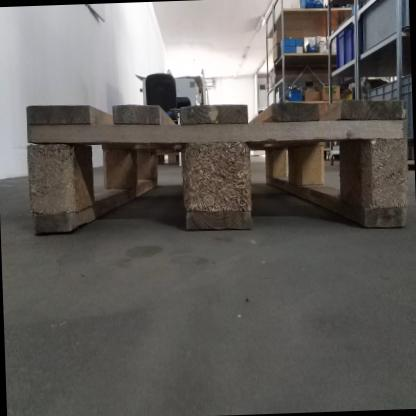BoxFace: (24, 96, 409, 245)
